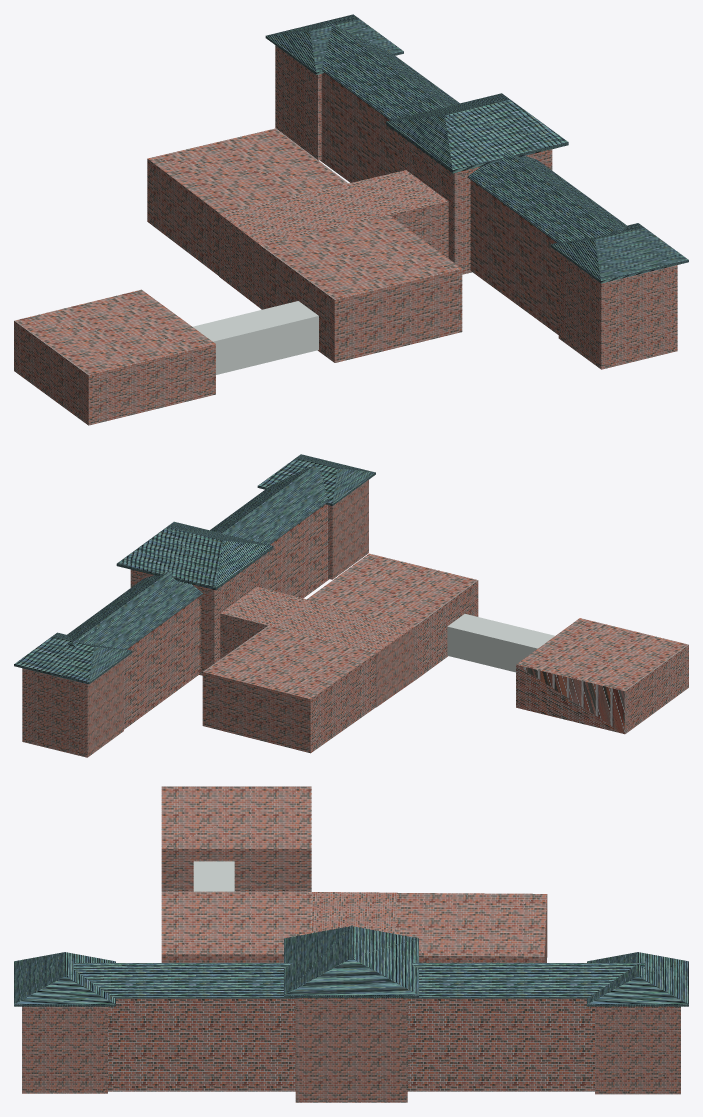
The model's file is rwa.glb.
The picture shows the model from 3 angles, top to bottom: view 1: azimuth 30°, elevation 25°; view 2: azimuth 150°, elevation 25°; view 3: azimuth 270°, elevation 25°; orthographic projection. The views are drawn at different scales.
Parts seen in each view (by area): view 1: Old Gym.001, Old Gym.002, Main, Old Gym, Main Roof, West Wing Corridor, South, Center roof, West Passage, South Roof, Center, North (+1 smaller); view 2: Old Gym, Old Gym.002, Main, Main Roof, Old Gym.001, West Wing Corridor, North, Center roof, West Passage, North Roof, South, Center (+1 smaller); view 3: Main, Old Gym.002, Main Roof, Center, Old Gym.001, Old Gym, Center roof, North, South, South Roof, North Roof, West Wing Corridor (+1 smaller).
Part boxes in pixels (left/top/right/bottom): Old Gym.001: left=260, top=215, right=462, bottom=362; Old Gym.002: left=14, top=289, right=215, bottom=425; Main: left=320, top=73, right=558, bottom=334; Old Gym: left=147, top=128, right=348, bottom=275; Main Roof: left=321, top=22, right=627, bottom=242; West Wing Corridor: left=219, top=170, right=448, bottom=307; South: left=558, top=253, right=677, bottom=369; Center roof: left=385, top=93, right=568, bottom=173; West Passage: left=192, top=301, right=318, bottom=374; South Roof: left=550, top=223, right=688, bottom=283; Center: left=399, top=134, right=552, bottom=274; North: left=275, top=45, right=321, bottom=160; Old Gym: left=202, top=625, right=376, bottom=753; Old Gym.002: left=516, top=618, right=688, bottom=734; Main: left=124, top=504, right=329, bottom=729; Main Roof: left=67, top=466, right=328, bottom=649; Old Gym.001: left=307, top=553, right=478, bottom=680; West Wing Corridor: left=220, top=586, right=414, bottom=707; North: left=22, top=659, right=123, bottom=757; Center roof: left=116, top=521, right=273, bottom=590; West Passage: left=447, top=614, right=554, bottom=672; North Roof: left=14, top=632, right=132, bottom=684; South: left=328, top=480, right=368, bottom=579; Center: left=130, top=557, right=261, bottom=675; Main: left=108, top=998, right=594, bottom=1091; Old Gym.002: left=161, top=786, right=311, bottom=891; Main Roof: left=73, top=963, right=644, bottom=998; Center: left=295, top=998, right=407, bottom=1102; Old Gym.001: left=161, top=891, right=311, bottom=962; Old Gym: left=395, top=893, right=547, bottom=962; Center roof: left=284, top=926, right=418, bottom=998; North: left=595, top=1006, right=680, bottom=1094; South: left=22, top=1006, right=107, bottom=1093; South Roof: left=14, top=952, right=115, bottom=1006; North Roof: left=587, top=952, right=688, bottom=1006; West Wing Corridor: left=310, top=892, right=397, bottom=933.
Bounding box in the file's own units: 132 × 31.82 × 142.
13 materials, 12 textured.
